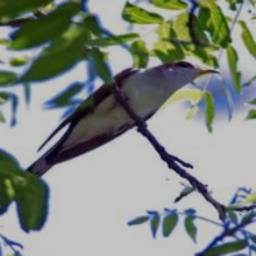Cuckoo: (0, 59, 220, 206)
